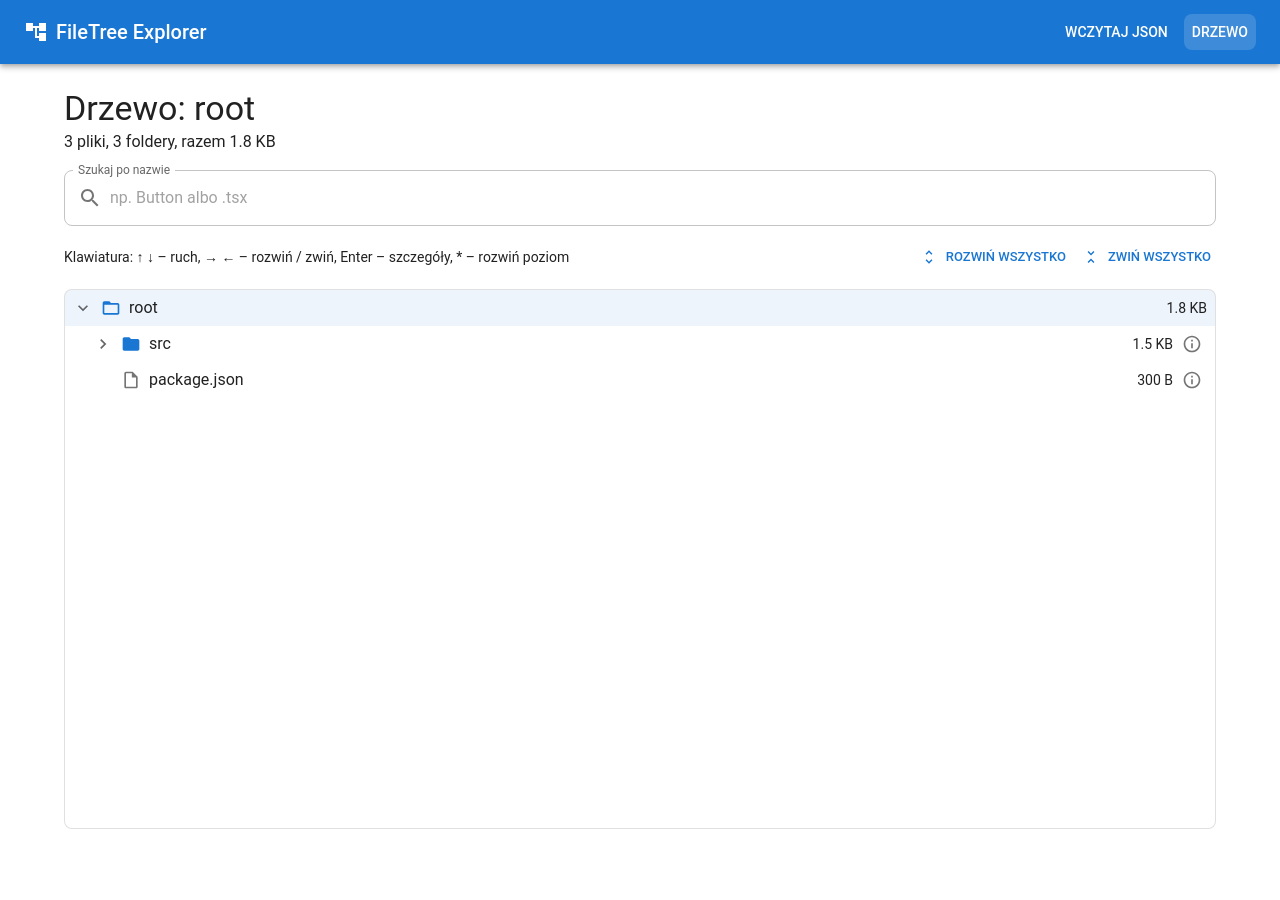
Test: search › searches the whole tree and saves the query in the URL
The image size is (1280, 900).
Type "button" into the search field labelled "Szukaj po nazwie" at (663, 198), box [110,170,1216,226]
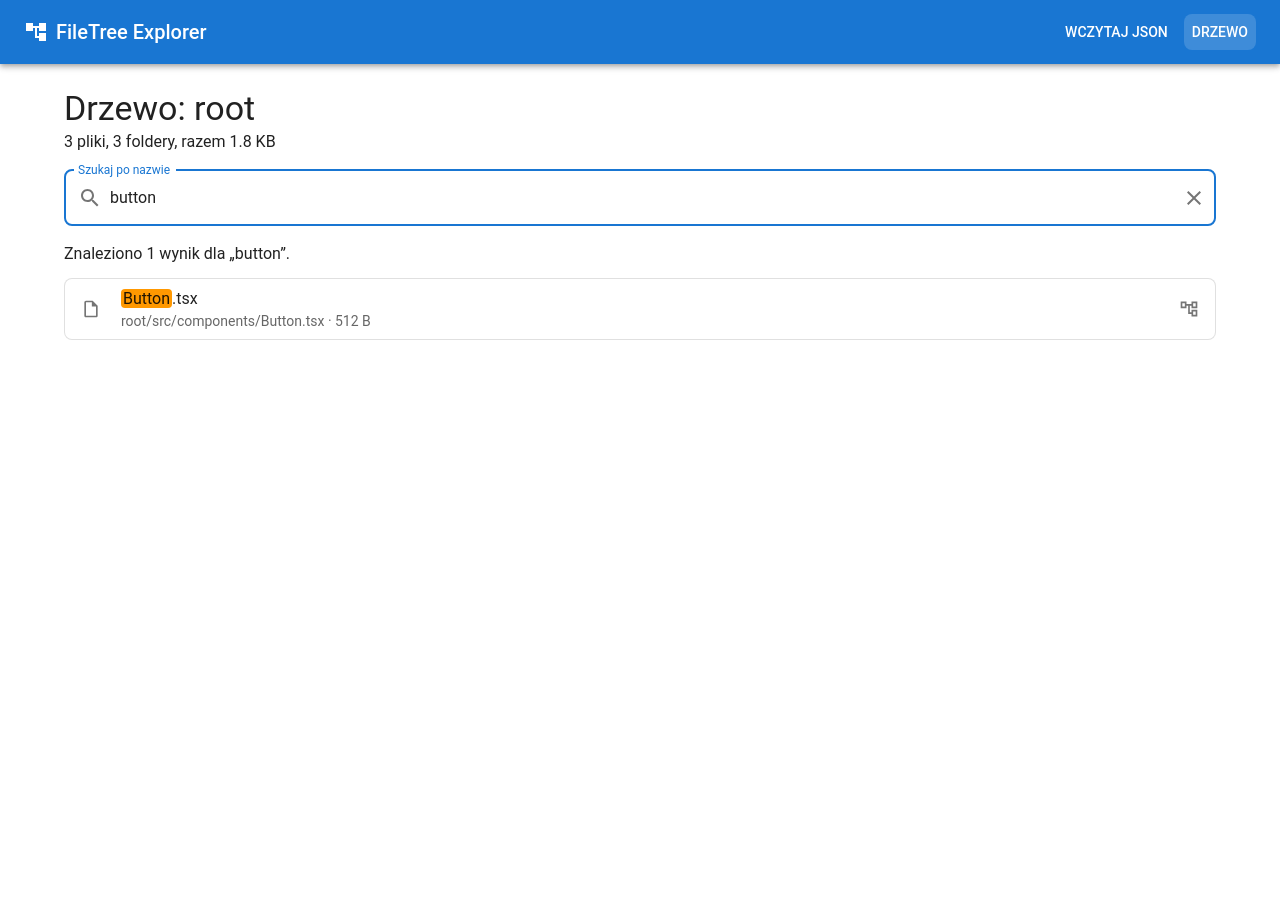
Expected: the message reads "Znaleziono 1 wynik dla „button”.", [64,244,290,263]
Expected: the text "root/src/components/Button.tsx · 512 B" is shown, [121,313,371,329]
